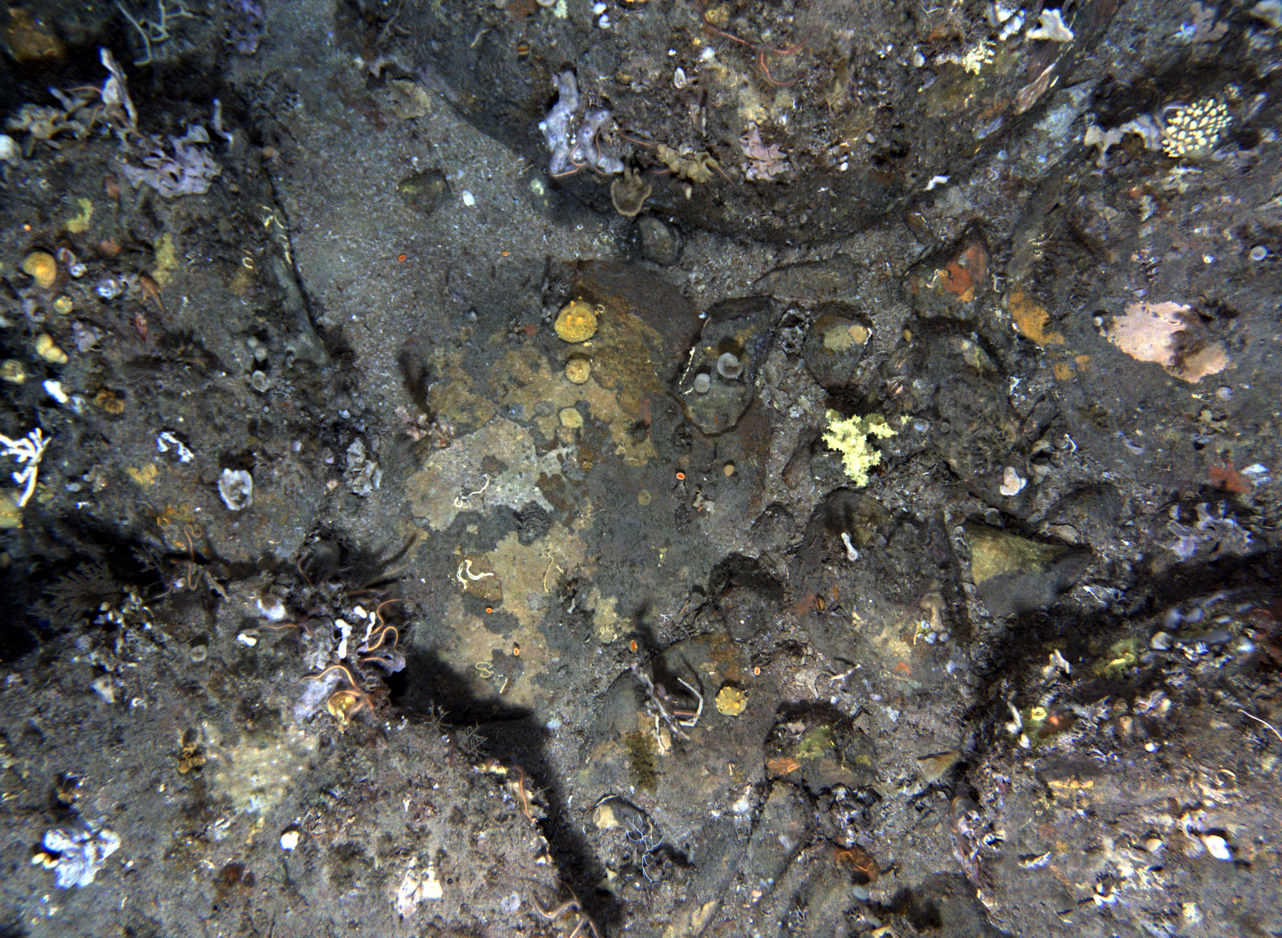Brachionichthyidae: (135, 274, 178, 322)
